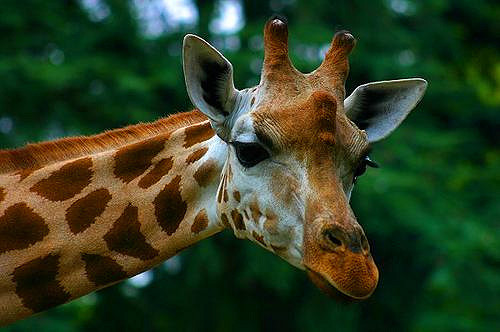giraffe: (3, 15, 438, 304)
